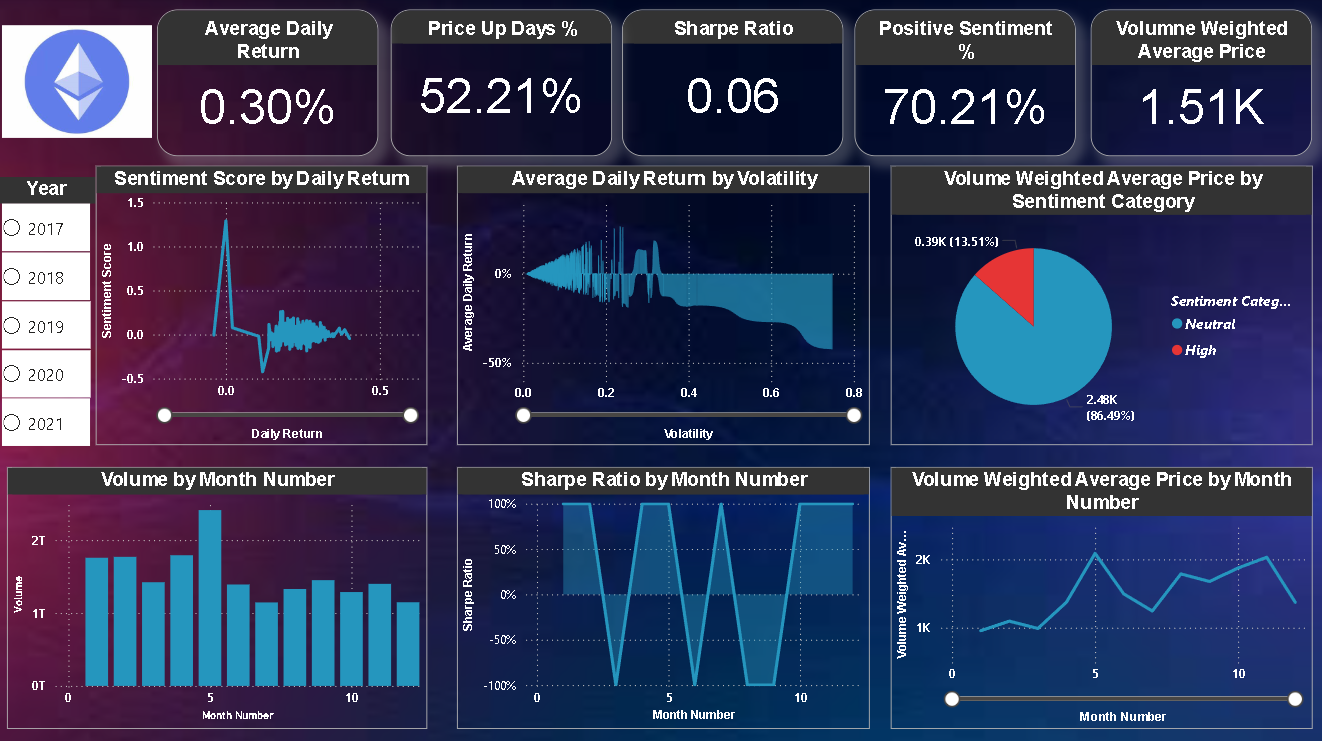

This screenshot's page, from the dashboard's own definition file:
{"tool":"powerbi","page":{"name":"Ethereum","canvas":[1280,720],"ordinal":1},"visuals":[{"type":"card","title":"Sharpe Ratio","fields":{"Values":["eth_with_sentiment.Sharpe Ratio"]},"box":[603.1,11.5,213.5,141.4],"z":1},{"type":"card","title":"Positive Sentiment %","fields":{"Values":["eth_with_sentiment.Positive_Sentiment_Days %"]},"box":[828.1,11.5,213.5,141.4],"z":4},{"type":"card","title":"Price Up Days %","fields":{"Values":["eth_with_sentiment.Price_Up_Days %"]},"box":[379.4,11.5,213.5,141.4],"z":6},{"type":"card","title":"Average Daily  Return","fields":{"Values":["eth_with_sentiment.Average_Daily_Return"]},"box":[154.4,11.5,213.5,141.4],"z":7},{"type":"image","box":[0,0,154.4,163],"z":8},{"type":"listSlicer","fields":{"Values":["eth_with_sentiment.Year"]},"box":[0,173.1,95.2,402.5],"z":9},{"type":"card","title":"Volumne Weighted Average Price","fields":{"Values":["eth_with_sentiment.Volume Weighted Average Price"]},"box":[1056.1,11.5,213.5,141.4],"z":10},{"type":"clusteredColumnChart","title":"Volume by Month Number","fields":{"Y":["Sum(eth_with_sentiment.ETH-USD_Volume)"],"Category":["eth_with_sentiment.Month Number"]},"box":[10.1,453,405.4,252.5],"z":11},{"type":"hundredPercentStackedAreaChart","fields":{"Y":["eth_with_sentiment.Sharpe Ratio"],"Category":["eth_with_sentiment.Month Number"]},"box":[444.4,453,398.2,252.5],"z":12},{"type":"lineClusteredColumnComboChart","title":"Sentiment Score by Daily Return","fields":{"Category":["eth_with_sentiment.Sentiment_Score"],"Y2":["Sum(eth_with_sentiment.Daily_Return)"]},"box":[95.2,163,320.3,269.8],"z":13},{"type":"pieChart","title":"Volume Weighted Average Price by Sentiment Category","fields":{"Category":["eth_with_sentiment.Sentiment_Category"],"Y":["eth_with_sentiment.Volume Weighted Average Price"]},"box":[862.8,163,406.9,269.8],"z":14},{"type":"lineChart","fields":{"Y":["eth_with_sentiment.Volume Weighted Average Price"],"Category":["eth_with_sentiment.Month Number"]},"box":[862.8,453,406.9,252.5],"z":15},{"type":"ribbonChart","title":"Average Daily Return by Volatility","fields":{"Y":["eth_with_sentiment.Average_Daily_Return"],"Category":["eth_with_sentiment.Volatility"]},"box":[444.4,163,398.2,269.8],"z":16}]}

Visuals, with their boxes in screenshot pixels (x1, y1, x2, y2), scaled from the page's 1280x720 canvas onto the 1322x741 screenshot:
"Sharpe Ratio" card: rect(623, 12, 843, 157)
"Positive Sentiment %" card: rect(855, 12, 1076, 157)
"Price Up Days %" card: rect(392, 12, 612, 157)
"Average Daily  Return" card: rect(159, 12, 380, 157)
image: rect(0, 0, 159, 168)
listSlicer - eth_with_sentiment.Year: rect(0, 178, 98, 592)
"Volumne Weighted Average Price" card: rect(1091, 12, 1311, 157)
"Volume by Month Number" clusteredColumnChart: rect(10, 466, 429, 726)
hundredPercentStackedAreaChart - eth_with_sentiment.Sharpe Ratio x eth_with_sentiment.Month Number: rect(459, 466, 870, 726)
"Sentiment Score by Daily Return" lineClusteredColumnComboChart: rect(98, 168, 429, 445)
"Volume Weighted Average Price by Sentiment Category" pieChart: rect(891, 168, 1311, 445)
lineChart - eth_with_sentiment.Volume Weighted Average Price x eth_with_sentiment.Month Number: rect(891, 466, 1311, 726)
"Average Daily Return by Volatility" ribbonChart: rect(459, 168, 870, 445)
